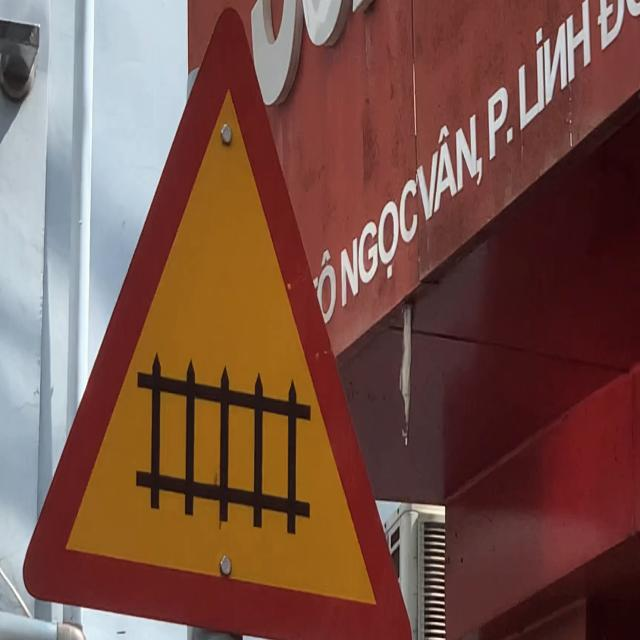Nguy hiem: (7, 0, 430, 640)
